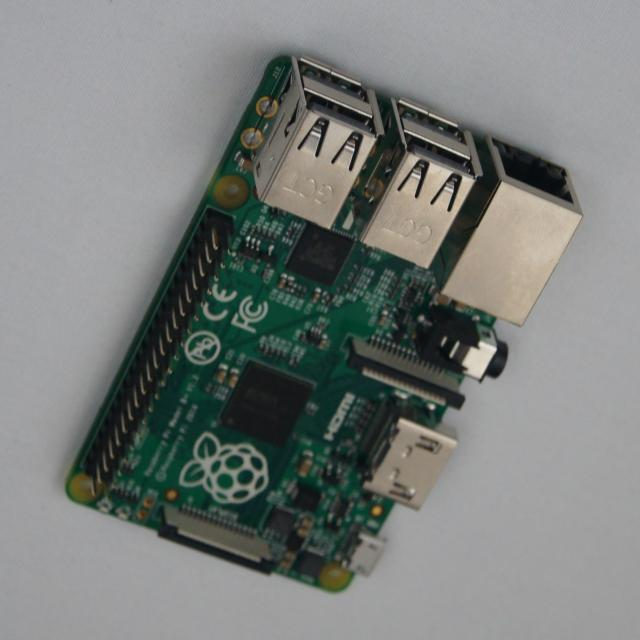Raspberry Pi 1 B-: (67, 55, 582, 593)
